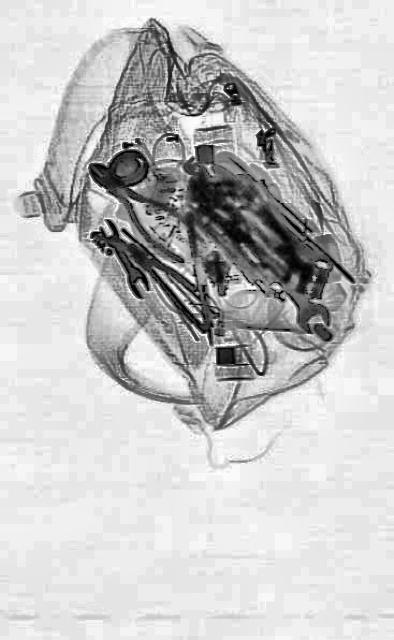Pliers: (78, 142, 206, 278), (122, 228, 212, 332)
Wrench: (251, 235, 333, 348), (95, 212, 151, 302)
